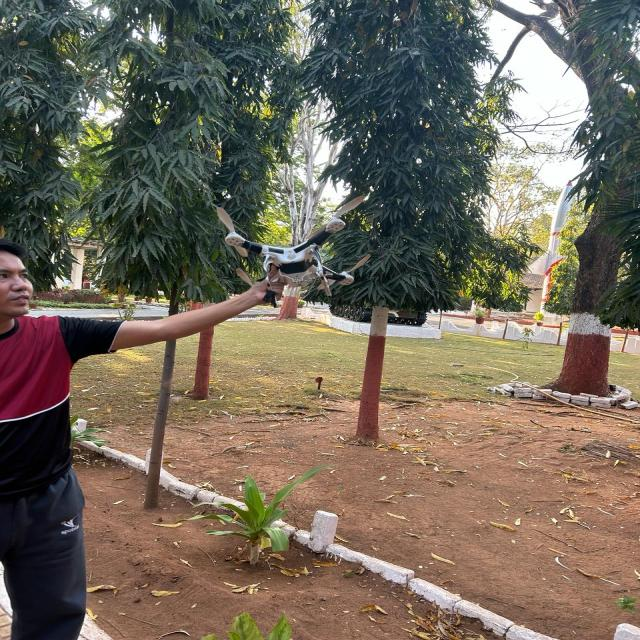drone: (191, 180, 403, 310)
